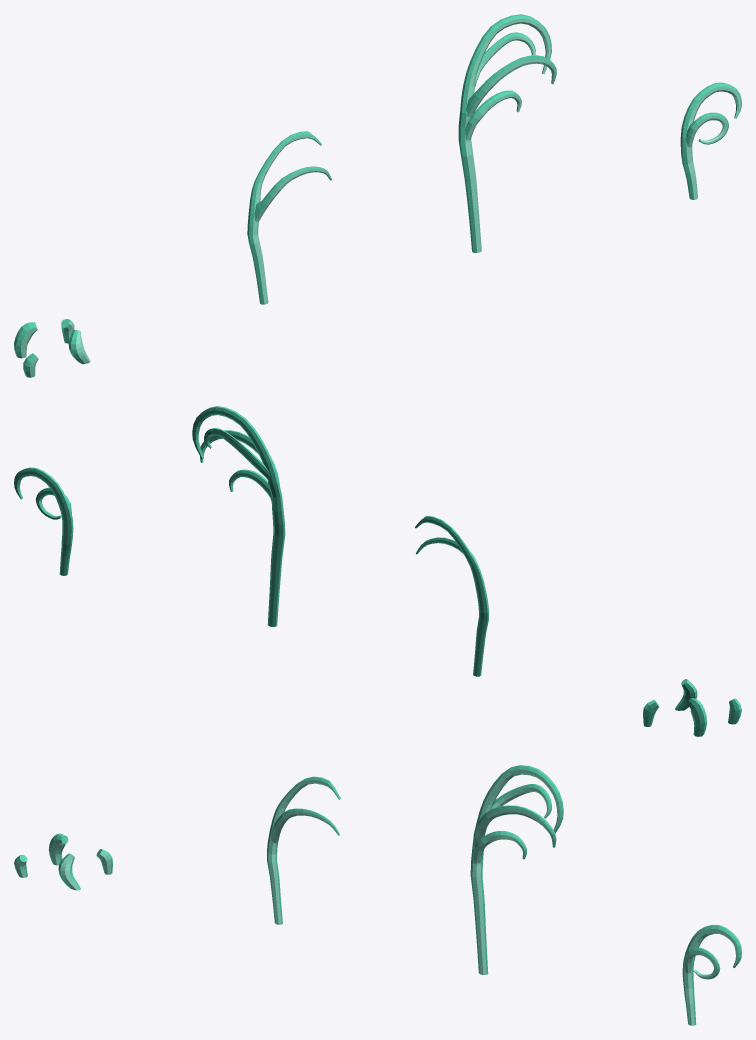
3 views of the same model, one above another, from view 1: azimuth 30°, elevation 25°; view 2: azimuth 150°, elevation 25°; view 3: azimuth 330°, elevation 25° (orthographic). The views are drawn at different scales.
Visible parts, largest first — view 1: T_3, T_2, T_4, T_1; view 2: T_3, T_2, T_4, T_1; view 3: T_3, T_2, T_4, T_1.
Part boxes in pixels (left/top/right/bottom): T_3: left=458, top=14, right=556, bottom=252; T_2: left=247, top=131, right=331, bottom=304; T_4: left=680, top=82, right=741, bottom=199; T_1: left=14, top=319, right=90, bottom=377; T_3: left=192, top=406, right=285, bottom=626; T_2: left=415, top=515, right=488, bottom=676; T_4: left=14, top=467, right=73, bottom=575; T_1: left=643, top=679, right=741, bottom=736; T_3: left=470, top=765, right=563, bottom=974; T_2: left=267, top=776, right=340, bottom=924; T_4: left=682, top=924, right=741, bottom=1025; T_1: left=14, top=833, right=112, bottom=890.
Size of the model in its own units: 347 by 99.2 by 25.69.
